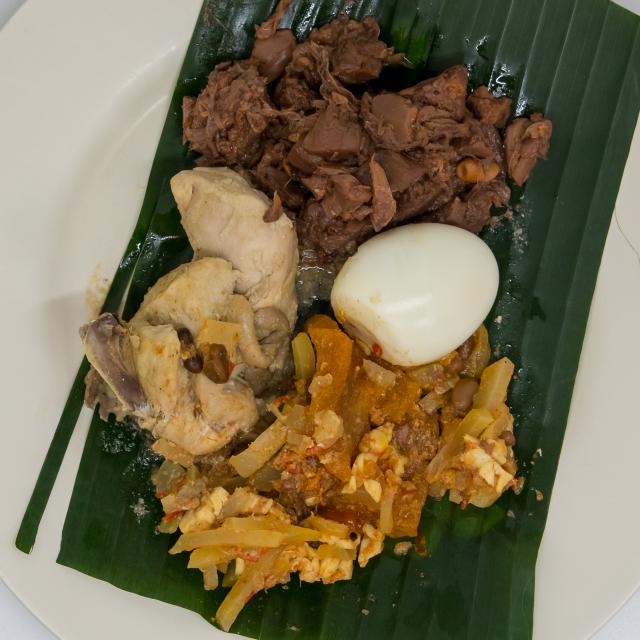Gudeg-Jogja: (69, 7, 579, 615)
